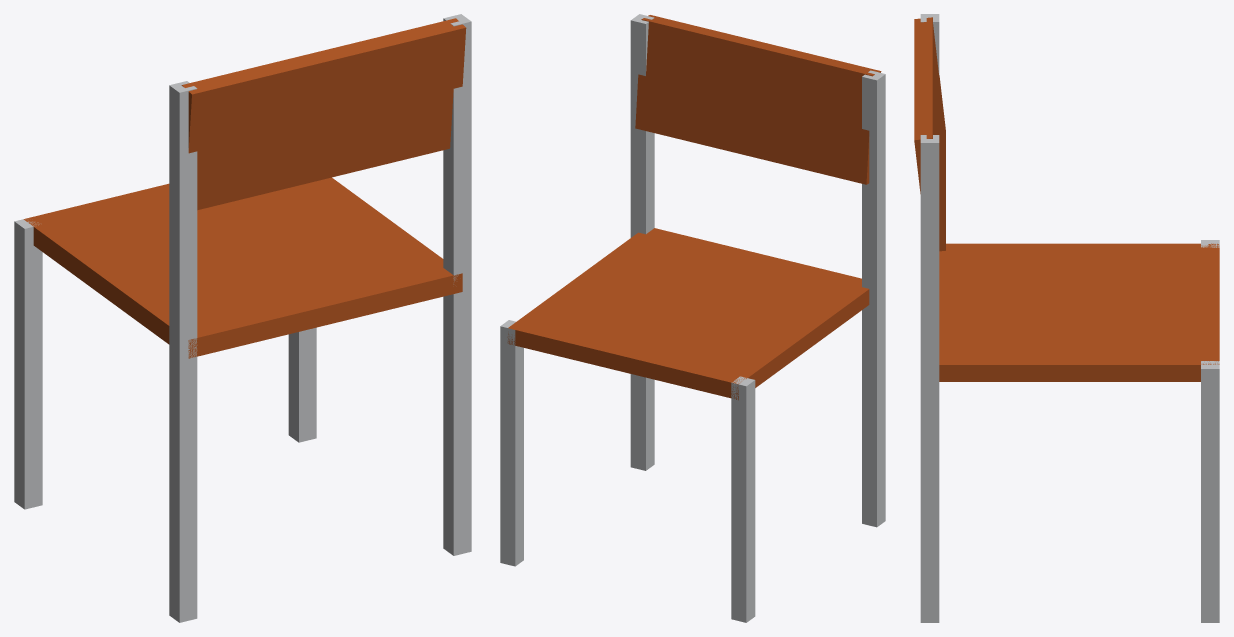
The model's file is SM_80s_StackChair.glb.
3 renders of one model, left to right at view 1: azimuth 30°, elevation 25°; view 2: azimuth 150°, elevation 25°; view 3: azimuth 270°, elevation 25°, orthographic. The views are drawn at different scales.
Parts seen in each view (by area): view 1: SM_80s_StackChair; view 2: SM_80s_StackChair; view 3: SM_80s_StackChair.
Part boxes in pixels (x1,y1,x2,y2): SM_80s_StackChair: (14,14,471,622); SM_80s_StackChair: (500,14,885,622); SM_80s_StackChair: (914,14,1219,622).
Size of the model in its own units: 0.6468 by 1.12 by 0.6473.
